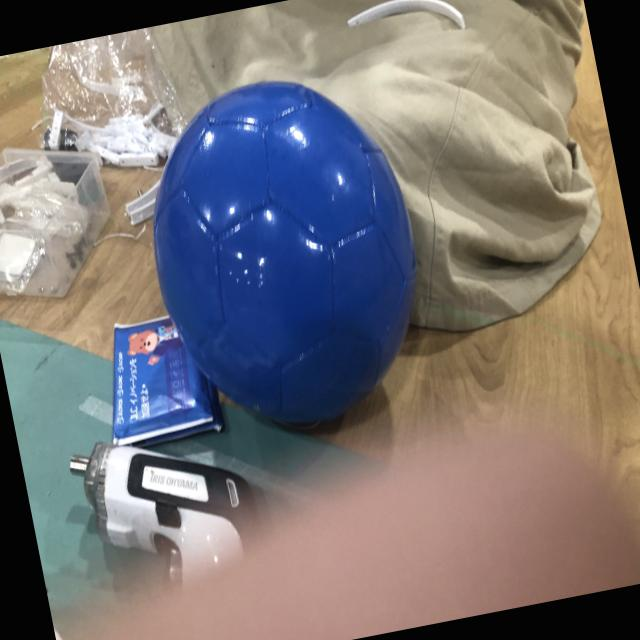blue_ball: (130, 61, 444, 448)
